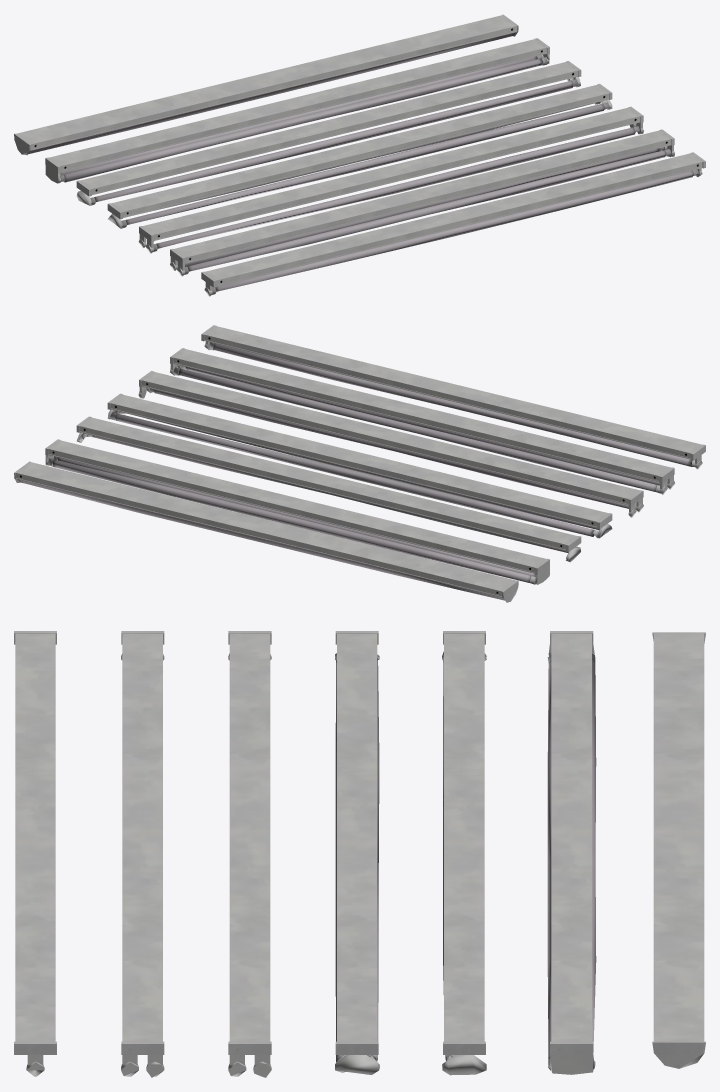
File: mounted_fluorescent_lights.gltf
3 renders of one model, top to bottom at view 1: azimuth 30°, elevation 25°; view 2: azimuth 150°, elevation 25°; view 3: azimuth 270°, elevation 25°, orthographic. The views are drawn at different scales.
Parts seen in each view (by area): view 1: mounted_fluorescent_lights_f, mounted_fluorescent_lights_b, mounted_fluorescent_lights_d, mounted_fluorescent_lights_e, mounted_fluorescent_lights_c, mounted_fluorescent_lights_a, mounted_fluorescent_lights_g; view 2: mounted_fluorescent_lights_f, mounted_fluorescent_lights_b, mounted_fluorescent_lights_d, mounted_fluorescent_lights_a, mounted_fluorescent_lights_g, mounted_fluorescent_lights_c, mounted_fluorescent_lights_e; view 3: mounted_fluorescent_lights_g, mounted_fluorescent_lights_f, mounted_fluorescent_lights_d, mounted_fluorescent_lights_c, mounted_fluorescent_lights_e, mounted_fluorescent_lights_b, mounted_fluorescent_lights_a.
Part boxes in pixels (x1=…): mounted_fluorescent_lights_f: x1=45, y1=38, x2=549, y2=183; mounted_fluorescent_lights_b: x1=170, y1=129, x2=674, y2=276; mounted_fluorescent_lights_d: x1=107, y1=83, x2=612, y2=228; mounted_fluorescent_lights_e: x1=76, y1=61, x2=581, y2=205; mounted_fluorescent_lights_c: x1=138, y1=106, x2=643, y2=253; mounted_fluorescent_lights_a: x1=201, y1=152, x2=705, y2=296; mounted_fluorescent_lights_g: x1=14, y1=14, x2=518, y2=155; mounted_fluorescent_lights_f: x1=45, y1=439, x2=549, y2=584; mounted_fluorescent_lights_b: x1=170, y1=348, x2=674, y2=494; mounted_fluorescent_lights_d: x1=107, y1=393, x2=612, y2=538; mounted_fluorescent_lights_a: x1=201, y1=325, x2=705, y2=469; mounted_fluorescent_lights_g: x1=14, y1=461, x2=518, y2=602; mounted_fluorescent_lights_c: x1=138, y1=371, x2=643, y2=517; mounted_fluorescent_lights_e: x1=76, y1=416, x2=581, y2=562; mounted_fluorescent_lights_g: x1=652, y1=632, x2=705, y2=1068; mounted_fluorescent_lights_f: x1=547, y1=631, x2=596, y2=1074; mounted_fluorescent_lights_d: x1=335, y1=631, x2=379, y2=1074; mounted_fluorescent_lights_c: x1=228, y1=631, x2=271, y2=1077; mounted_fluorescent_lights_e: x1=442, y1=631, x2=486, y2=1075; mounted_fluorescent_lights_b: x1=121, y1=631, x2=164, y2=1077; mounted_fluorescent_lights_a: x1=14, y1=631, x2=56, y2=1076.
Bounding box in the file's own units: 0.9122 × 0.0352 × 0.6453.
Materials: 2 (2 with a texture image).
